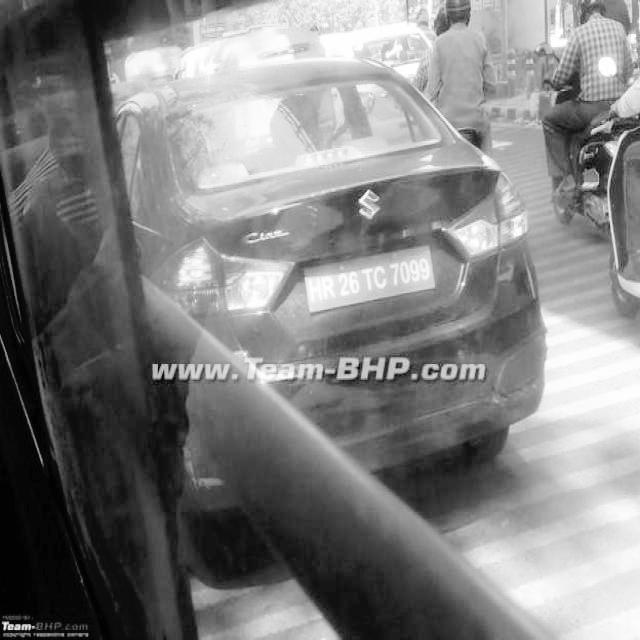Car: (106, 67, 560, 503)
